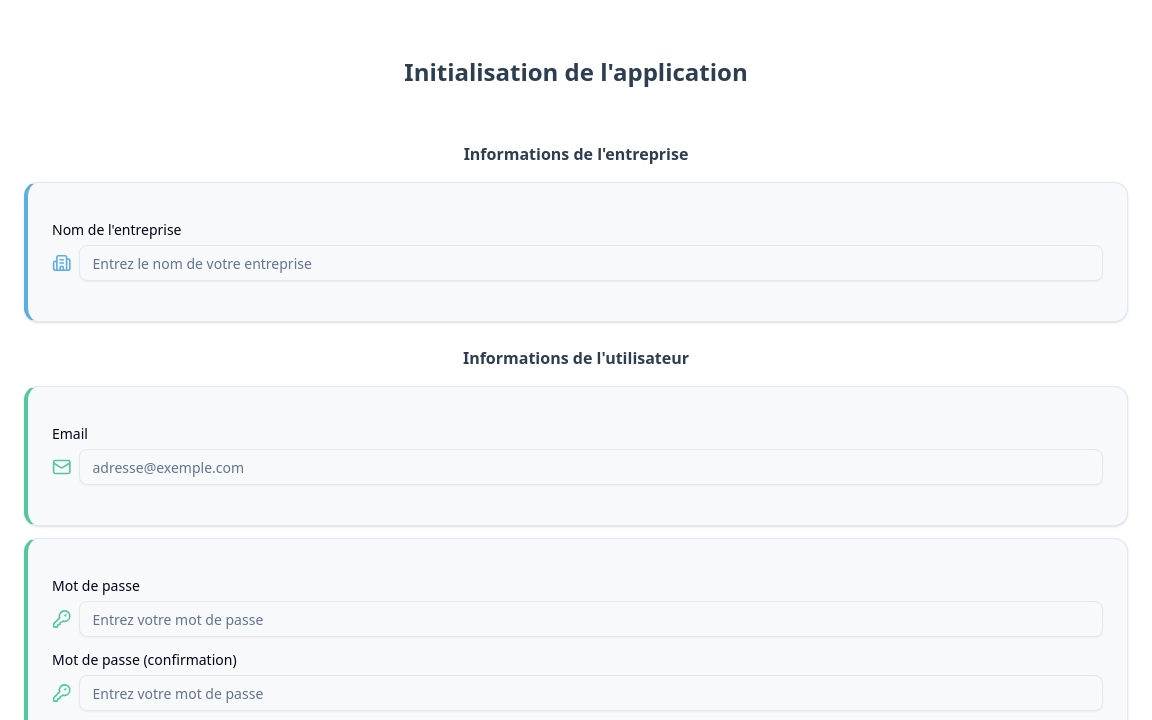
Test: InitApp Component › Form Submission › should submit form successfully with valid data
# Fill form with valid data (password must meet Zod requirements)
Step 1. Type "Test Company" into the field with placeholder "Entrez le nom de votre entreprise" → (591, 263), box top-left (80, 245), bottom-right (1103, 281)
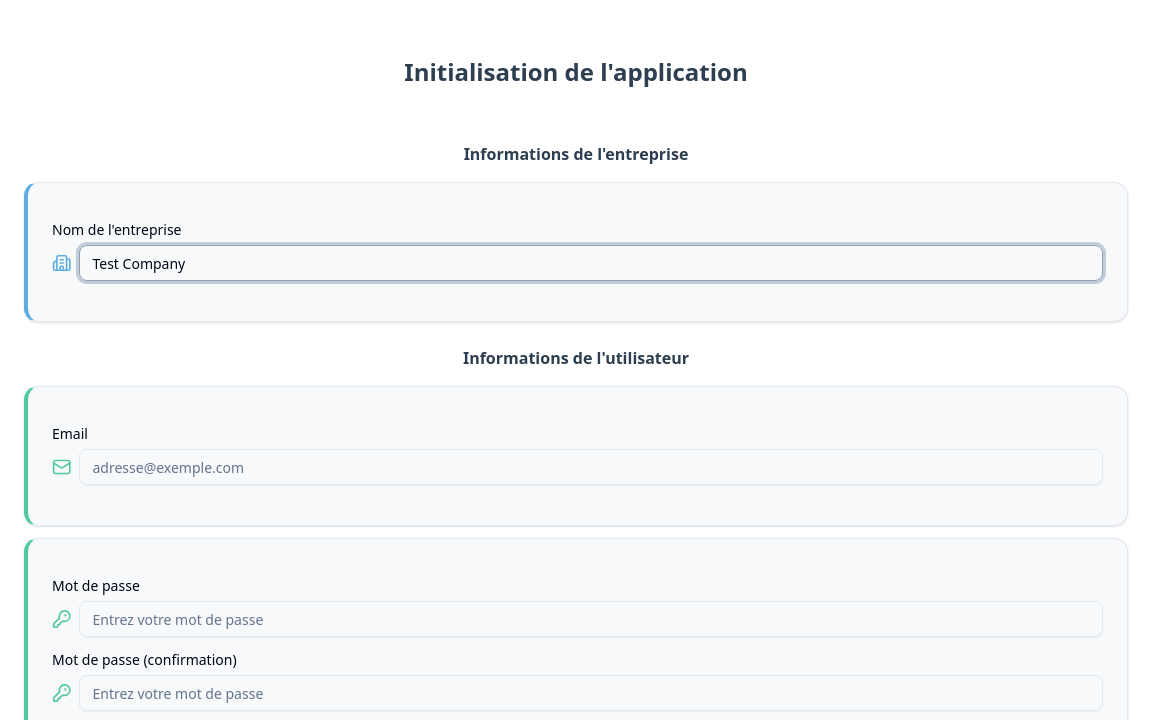
Step 2. Type "test@example.com" into the field with placeholder "adresse@exemple.com" → (591, 467), box top-left (80, 449), bottom-right (1103, 485)
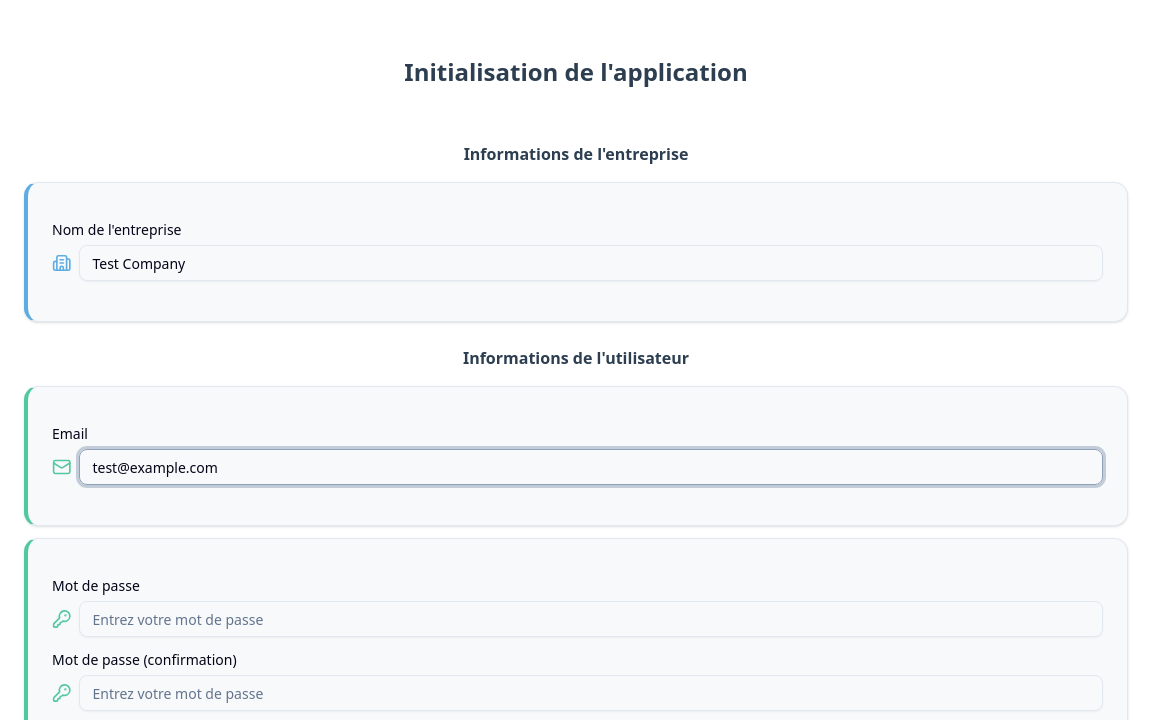
Step 3. Type "Password123" into the 1st password field with placeholder "Entrez votre mot de passe" → (591, 619), box top-left (80, 601), bottom-right (1103, 637)
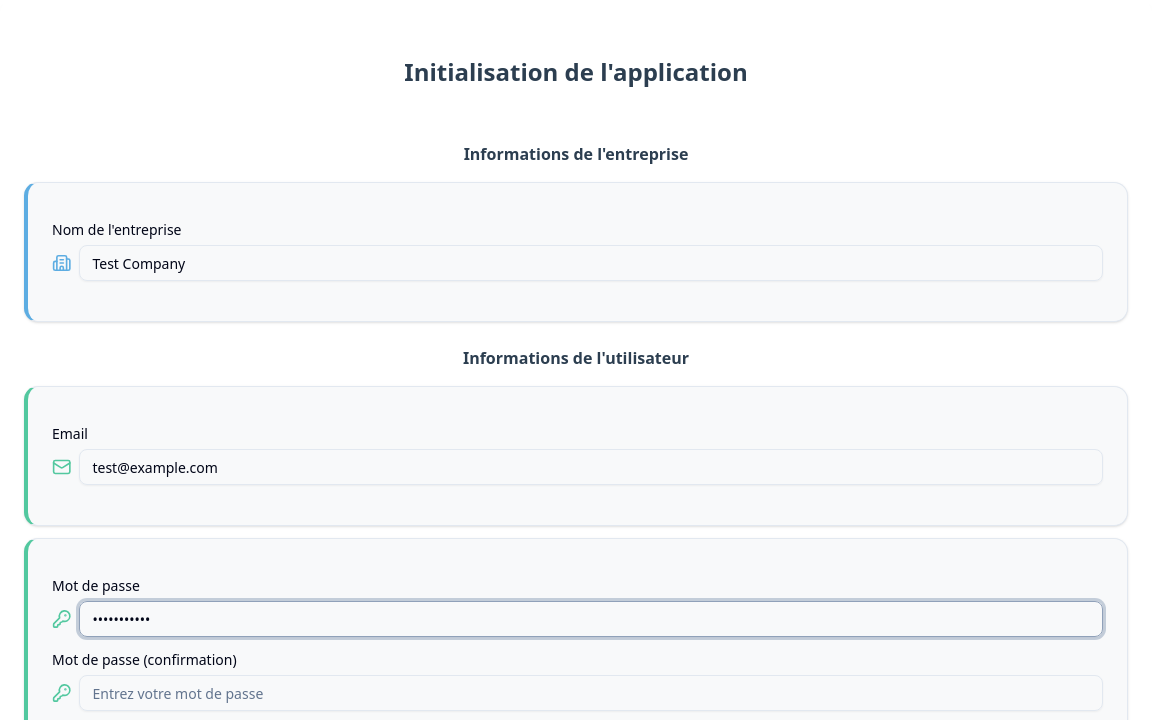
Step 4. Type "Password123" into the password field with placeholder "Entrez votre mot de passe" → (591, 693), box top-left (80, 675), bottom-right (1103, 711)
(page scrolled)
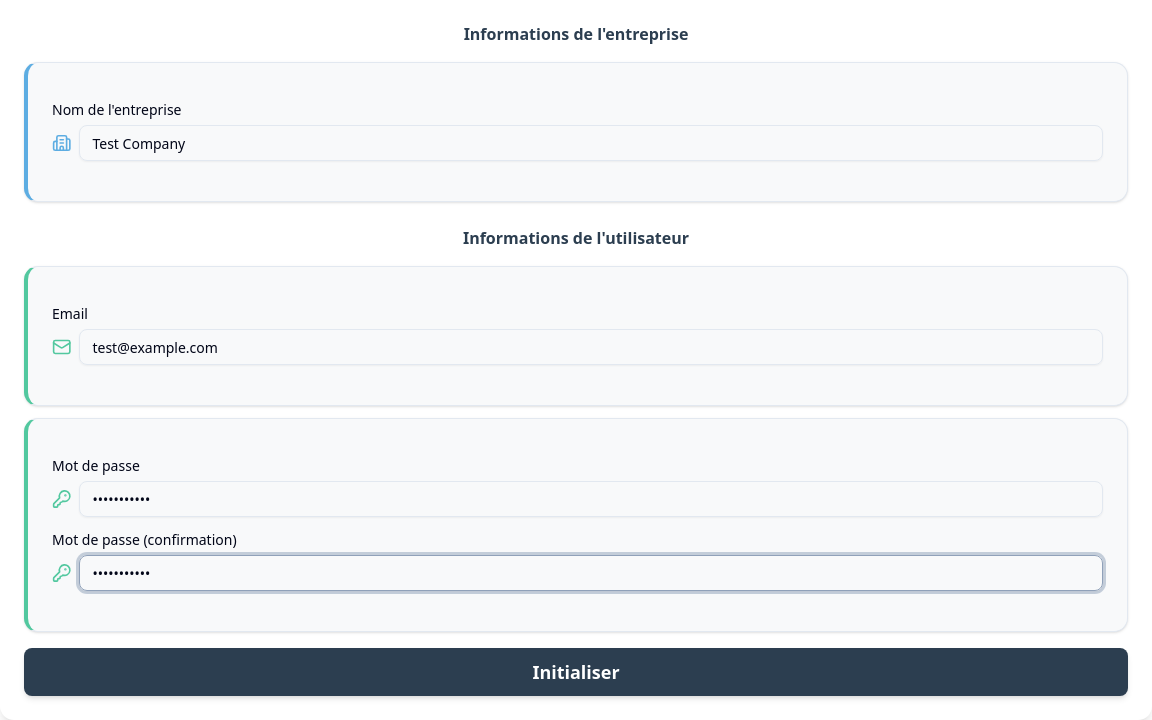
Step 5. Click the button "Initialiser" → (576, 672), box top-left (24, 648), bottom-right (1128, 696)
(page scrolled)
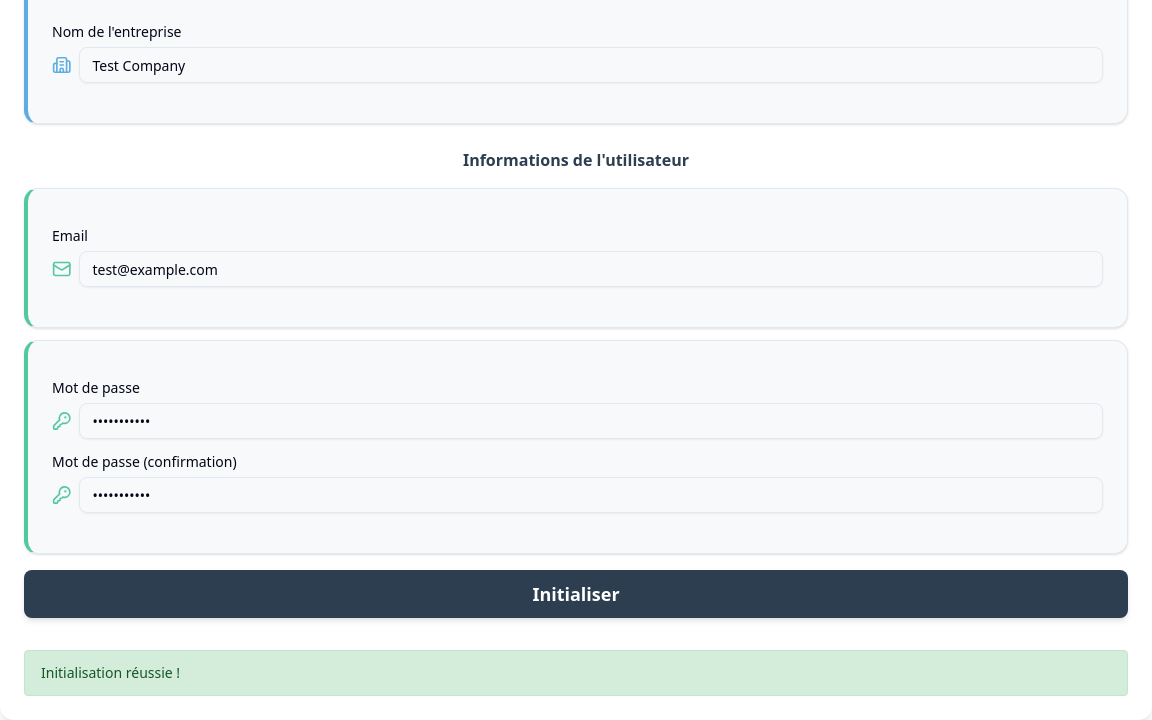
Expected: the text "Initialisation réussie !" is shown, top-left (24, 650), bottom-right (1128, 696)
